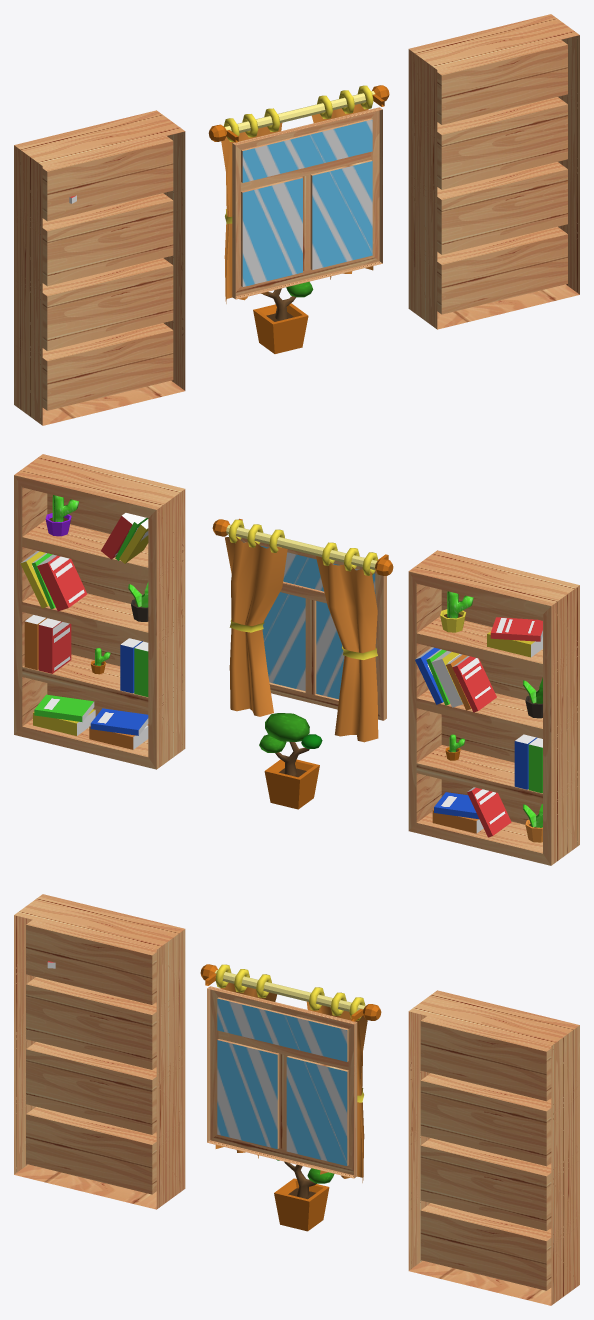
File: Back2.fbx
3 renders of one model, top to bottom at view 1: azimuth 30°, elevation 25°; view 2: azimuth 150°, elevation 25°; view 3: azimuth 330°, elevation 25°, orthographic.
Parts seen in each view (by area): view 1: Back2; view 2: Back2; view 3: Back2.
Boxes of the visible parts, <box> form: Back2: <box>14,14,579,425</box>; Back2: <box>14,454,579,865</box>; Back2: <box>14,894,579,1305</box>.
Size of the model in its own units: 7330 by 842 by 3407.
